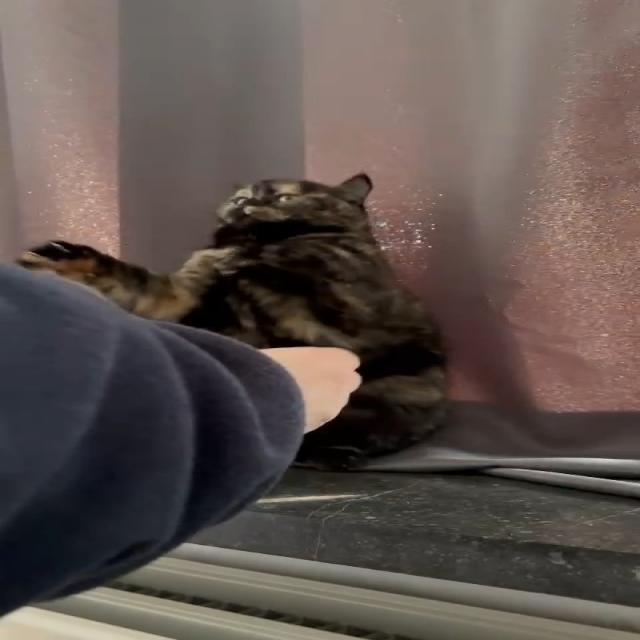authorized: (15, 171, 452, 471)
